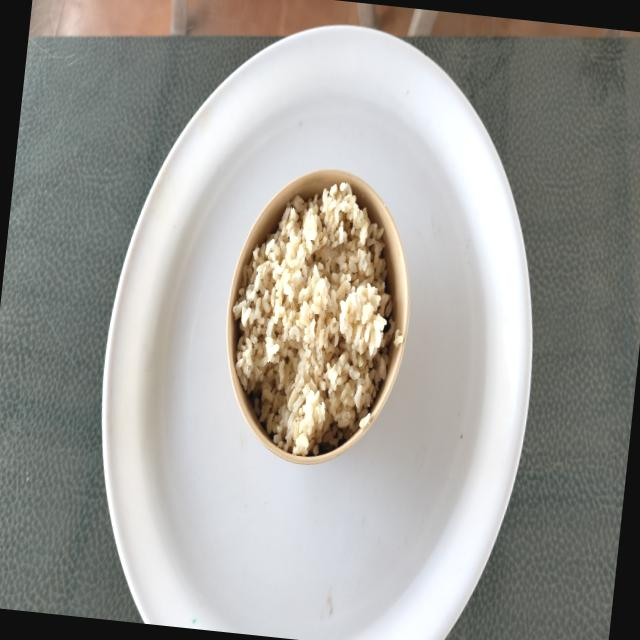brown-rice: (233, 183, 394, 456)
